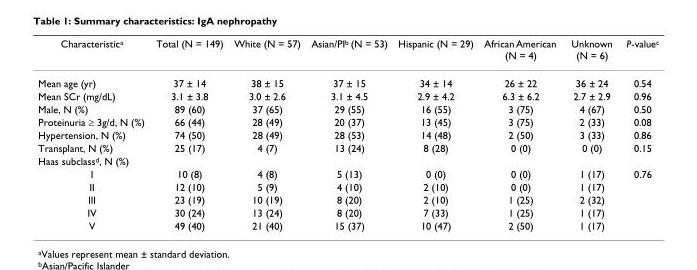table: (37, 37, 658, 231)
table column: (37, 37, 149, 231), (305, 37, 392, 231), (392, 37, 478, 231), (478, 37, 563, 231), (149, 37, 227, 231), (227, 37, 305, 231), (563, 37, 618, 231), (618, 37, 658, 231)
table column header: (37, 37, 658, 68)
table projected row header: (37, 153, 658, 166)
table row: (37, 37, 658, 68), (37, 68, 658, 89), (37, 114, 658, 128), (37, 89, 658, 102), (37, 128, 658, 141), (37, 153, 658, 166), (37, 166, 658, 179), (37, 179, 658, 192), (37, 192, 658, 205), (37, 205, 658, 218), (37, 218, 658, 231), (37, 102, 658, 114), (37, 141, 658, 153)
